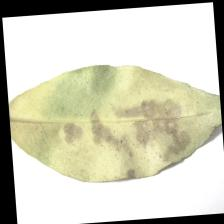black spot: (60, 92, 186, 159)
